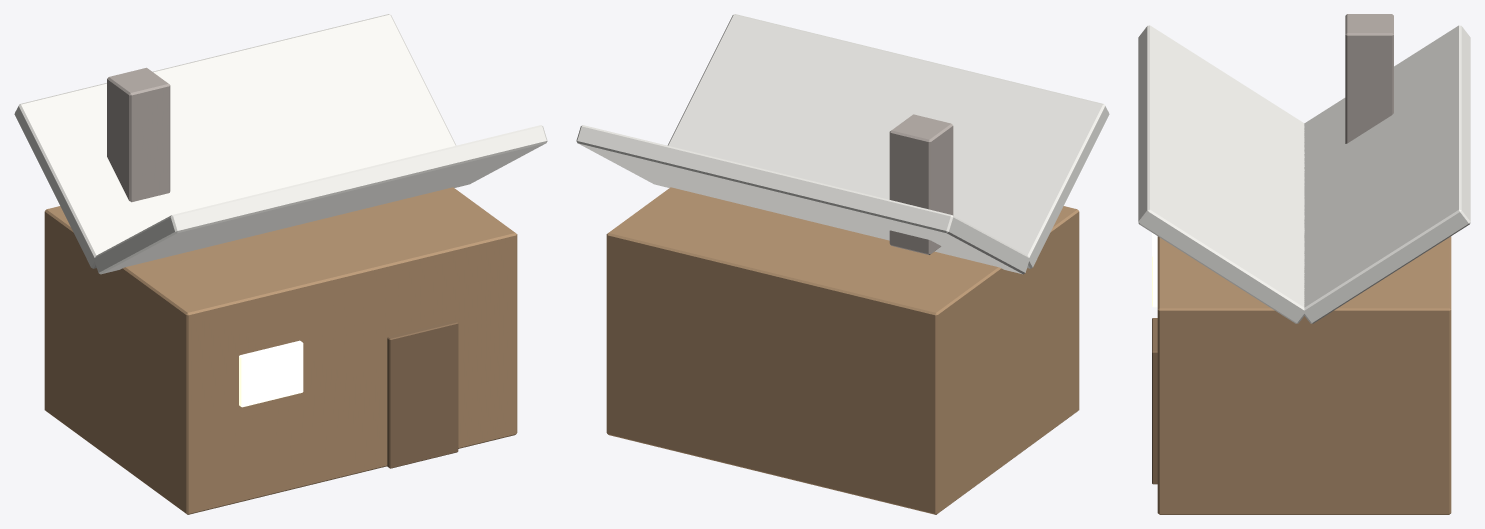
3 renders of one model, left to right at view 1: azimuth 30°, elevation 25°; view 2: azimuth 150°, elevation 25°; view 3: azimuth 270°, elevation 25°, orthographic. The views are drawn at different scales.
Visible parts, largest first — view 1: Cabin; view 2: Cabin; view 3: Cabin.
Boxes of the visible parts, left/top/right/bottom form: Cabin: left=14, top=14, right=547, bottom=514; Cabin: left=576, top=14, right=1109, bottom=514; Cabin: left=1138, top=14, right=1470, bottom=514.
Size of the model in its own units: 2.7 by 2.4 by 2.04.
